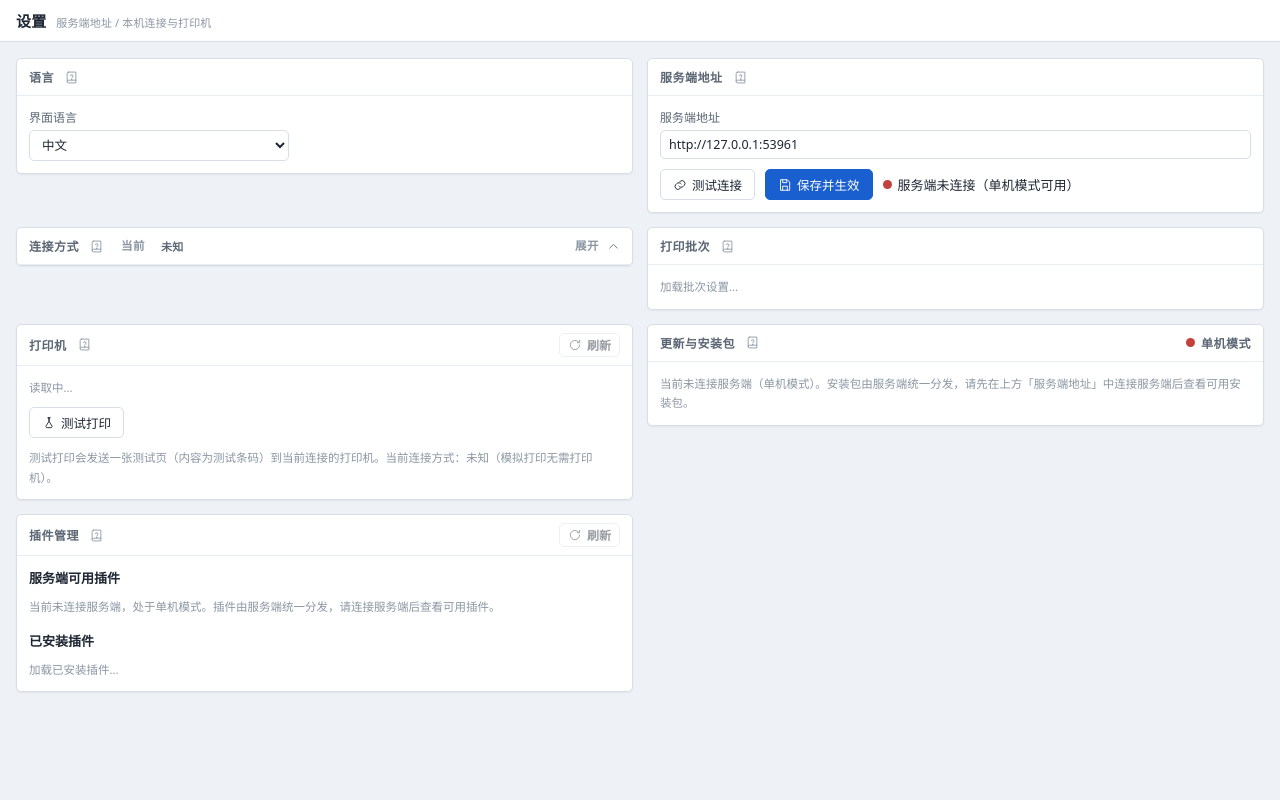
it: 服务端地址（F2） › 测试连接失败：提示失败原因
This screenshot has width=1280, height=800.
Step 1. Click the button "测试连接" → (708, 184), box [660,169,755,200]
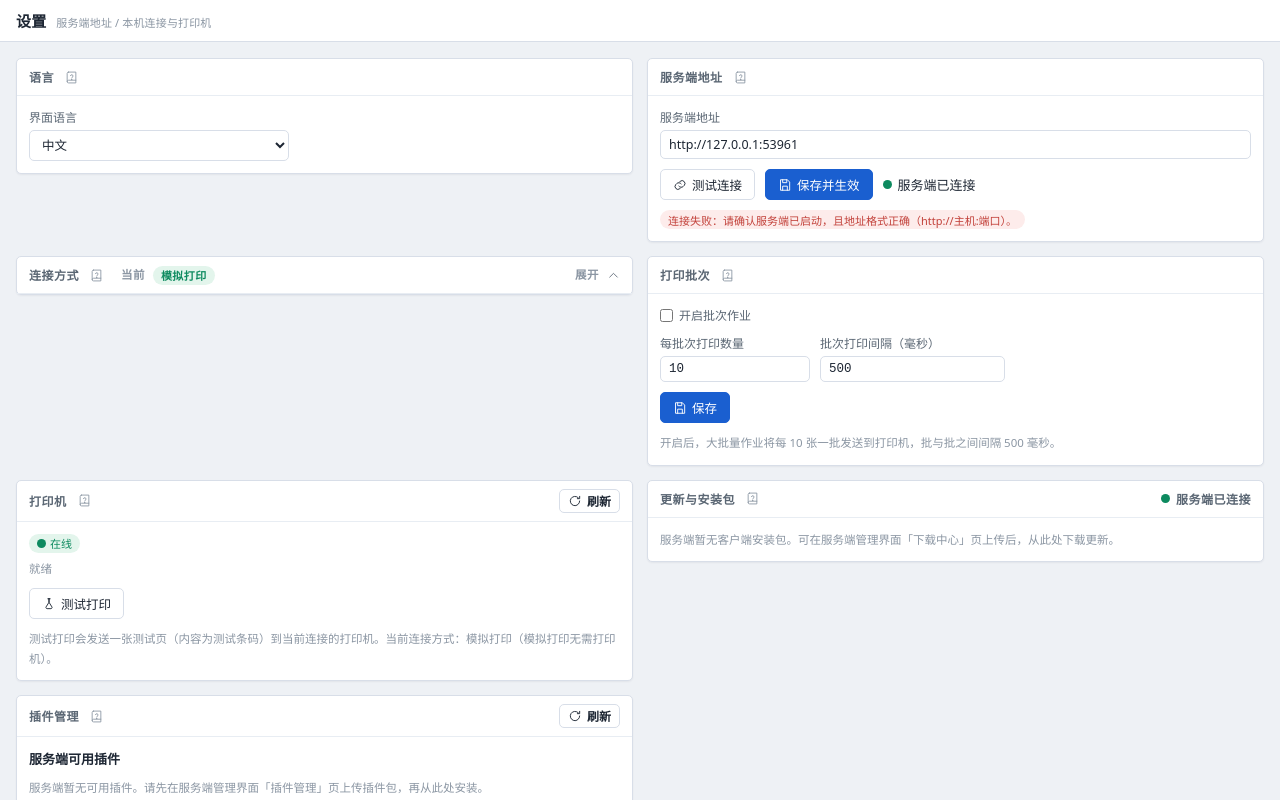
Expected: the text "连接失败：请确认服务端已启动，且地址格式正确（http://主机:端口）。" is shown, [660,210,1025,229]
